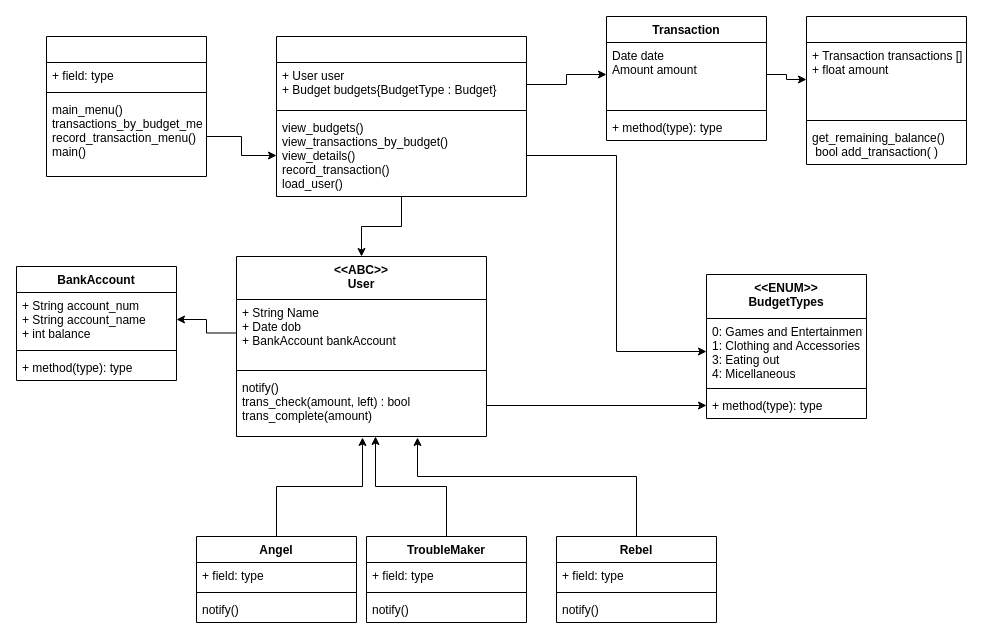
Image size: 983x639. Some labels were removed from this diagram. The shapes that lost their labels are listed below. From the top down, each one's box as (x1, y1, x2, y2) in pixels, then its label:
(46, 36, 206, 176): Fam
(806, 16, 966, 164): Budget
(276, 36, 526, 196): Moderator
